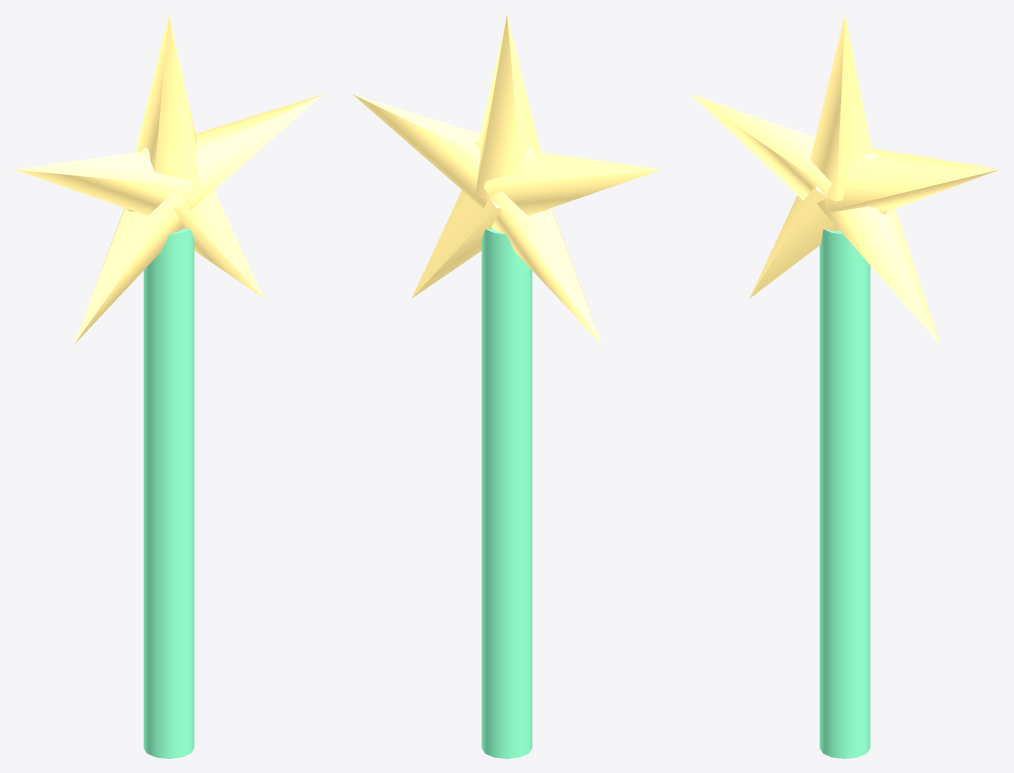
File: st_dream_sflower.glb
The picture shows the model from 3 angles, left to right: view 1: azimuth 30°, elevation 25°; view 2: azimuth 150°, elevation 25°; view 3: azimuth 330°, elevation 25°; orthographic projection.
Parts seen in each view (by area): view 1: Star_Flower; view 2: Star_Flower; view 3: Star_Flower.
Boxes of the visible parts, x1,y1,x2,y2 form: Star_Flower: (14,15,323,758); Star_Flower: (352,15,661,758); Star_Flower: (690,15,999,758).
Size of the model in its own units: 0.4945 by 1.12 by 0.1088.
